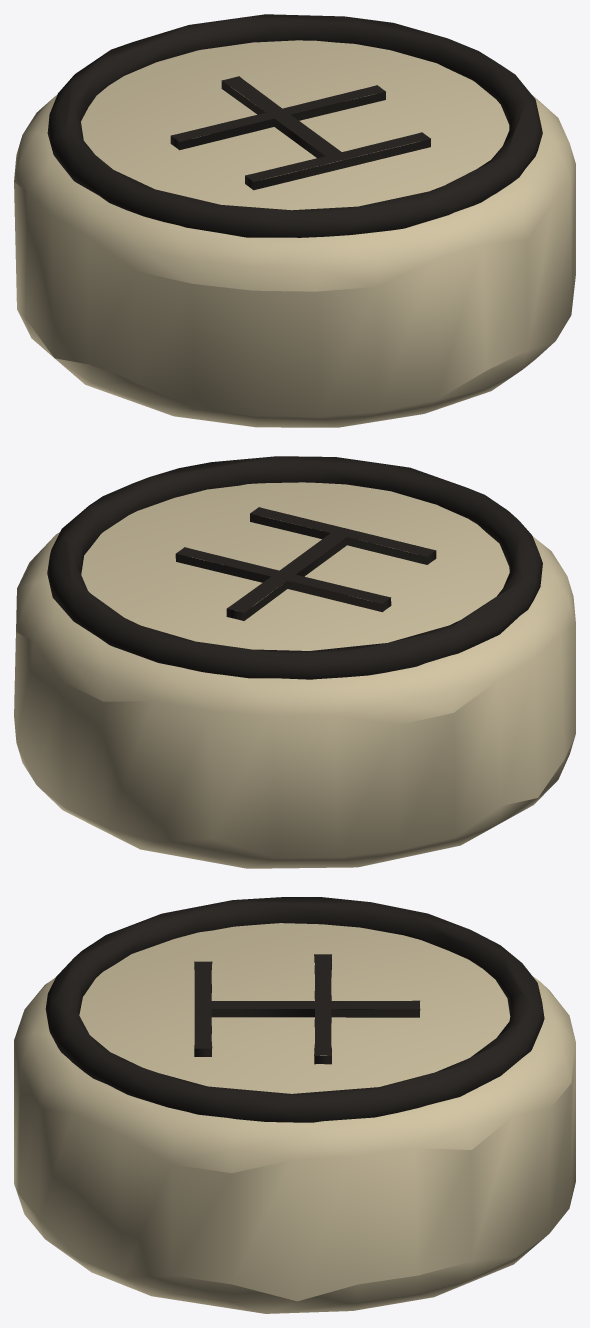
The model's file is quan_den_si.glb.
3 views of the same model, one above another, from view 1: azimuth 30°, elevation 25°; view 2: azimuth 150°, elevation 25°; view 3: azimuth 270°, elevation 25° (orthographic).
Visible parts, largest first — view 1: quan_den_si; view 2: quan_den_si; view 3: quan_den_si.
Boxes of the visible parts, x1=… form: quan_den_si: x1=14, y1=14, x2=575, y2=427; quan_den_si: x1=14, y1=456, x2=575, y2=868; quan_den_si: x1=14, y1=897, x2=575, y2=1313.
Bounding box in the file's own units: 0.0367 × 0.0153 × 0.0367.
